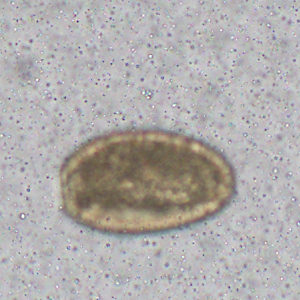Fasciola_hepatica_egg: (58, 129, 237, 235)
